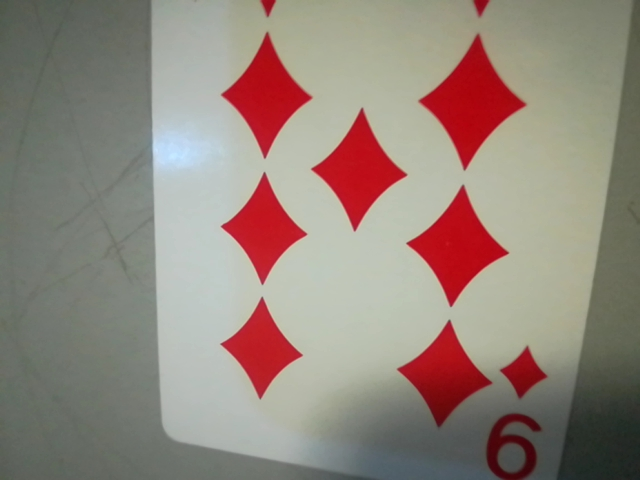fk 9: (477, 335, 565, 480)
